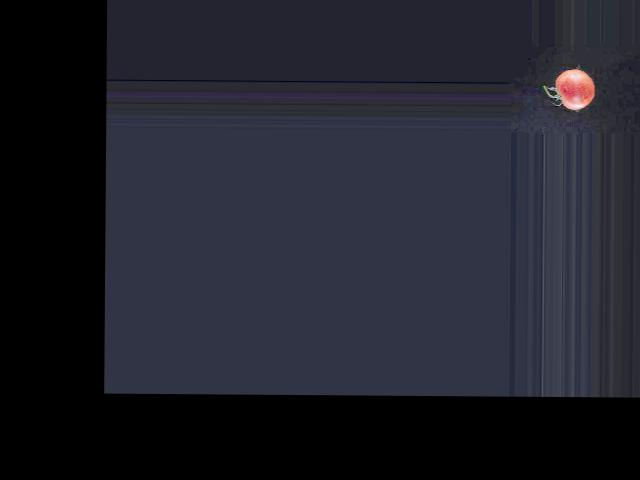tomato: (554, 68, 594, 109)
